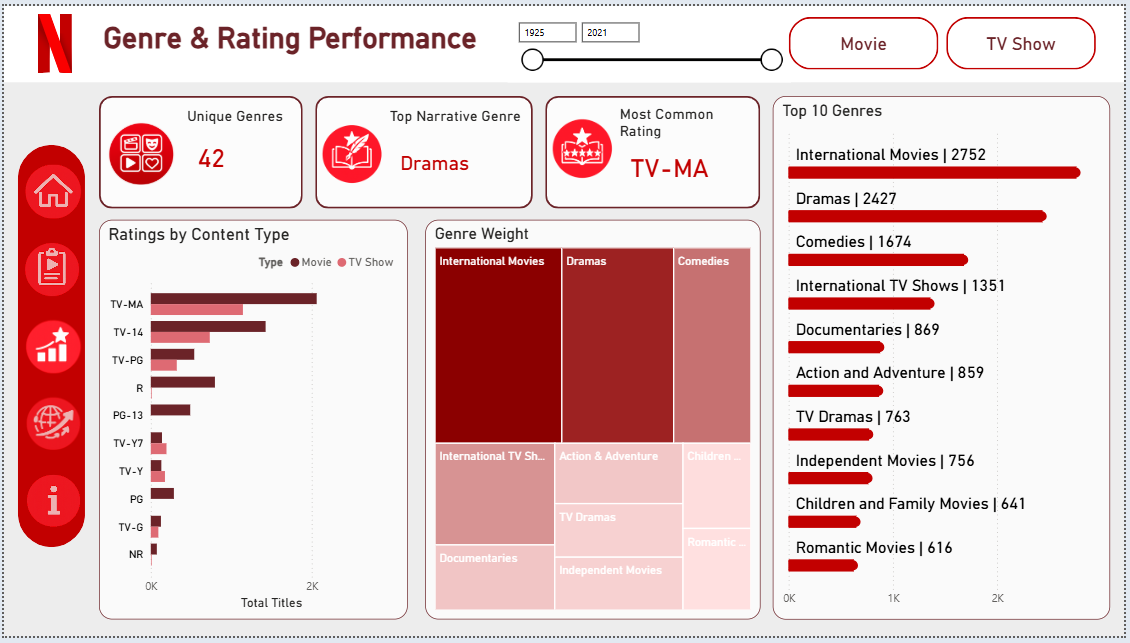

The dashboard page shown, as its layout file describes it:
{"tool":"powerbi","page":{"name":"Genre & Rating Performance","canvas":[1280,720],"ordinal":2},"visuals":[{"type":"shape","box":[0,0,1280,720],"z":0},{"type":"shape","box":[0,86.7,1280,633.3],"z":1000},{"type":"actionButton","box":[23.3,8.3,70,68.3],"z":2000},{"type":"textbox","box":[108.3,11.7,466.7,51.7],"z":3000},{"type":"clusteredBarChart","title":"Top 10 Genres","fields":{"Category":["Genre_table.Genre"],"Y":["Dashboard 2 measures.Label placeholder","Measures (2).Titles by Genre"]},"box":[878.6,102.9,385.7,598.6],"z":4000},{"type":"treemap","title":"Genre Weight","fields":{"Values":["Measures (2).Titles by Genre"],"Group":["Genre_table.Genre"]},"box":[481.4,244.3,382.9,457.1],"z":5000},{"type":"clusteredBarChart","title":"Ratings by Content Type","fields":{"Series":["netflix_titles.type"],"Y":["Measures (2).Total Titles"],"Category":["netflix_titles.rating"]},"box":[108.6,244.3,352.9,457.1],"z":6000},{"type":"shape","box":[108.6,102.9,232.9,128.6],"z":7000},{"type":"shape","box":[618.6,102.9,245.7,128.6],"z":8000},{"type":"shape","box":[355.7,102.9,248.6,128.6],"z":9000},{"type":"image","box":[118.6,130,75.7,77.1],"z":10000},{"type":"image","box":[622.9,128.6,75.7,68.6],"z":11000},{"type":"image","box":[360,134.3,75.7,68.6],"z":12000},{"type":"cardVisual","title":"Most Common Rating","fields":{"Data":["Dashboard 2 measures.Most Common Rating"]},"box":[698.6,112.9,152.9,102.9],"z":13000},{"type":"cardVisual","title":"Unique Genres","fields":{"Data":["Dashboard 2 measures.Unique Genres"]},"box":[204.3,115.7,125.7,94.3],"z":14000},{"type":"cardVisual","title":"Top Narrative Genre","fields":{"Data":["Dashboard 2 measures.Top Narrative Genre"]},"box":[435.7,115.7,168.6,105.7],"z":15000},{"type":"slicer","fields":{"Values":["netflix_titles.release_year"]},"box":[575.7,8.6,322.9,78.6],"z":16000},{"type":"shape","box":[15.7,158.6,77.1,460],"z":17000},{"type":"actionButton","box":[24.3,181.4,64.3,61.4],"z":18000},{"type":"actionButton","box":[22.9,269.6,64.3,61.4],"z":19000},{"type":"actionButton","box":[24.3,357.9,64.3,61.4],"z":20000},{"type":"actionButton","box":[24.3,446.1,64.3,61.4],"z":21000},{"type":"actionButton","box":[24.3,534.3,64.3,61.4],"z":22000},{"type":"advancedSlicerVisual","fields":{"Values":["netflix_titles.type"]},"box":[893.3,8.3,360,68.3],"z":23000}]}

Visuals, with their boxes in screenshot pixels (x1, y1, x2, y2), scaled from the page's 1280x720 canvas onto the 1130x643 screenshot:
shape: bbox=(0, 0, 1129, 642)
shape: bbox=(0, 77, 1129, 642)
actionButton: bbox=(21, 7, 82, 68)
textbox: bbox=(96, 10, 508, 57)
"Top 10 Genres" clusteredBarChart: bbox=(776, 92, 1116, 626)
"Genre Weight" treemap: bbox=(425, 218, 763, 626)
"Ratings by Content Type" clusteredBarChart: bbox=(96, 218, 407, 626)
shape: bbox=(96, 92, 301, 207)
shape: bbox=(546, 92, 763, 207)
shape: bbox=(314, 92, 533, 207)
image: bbox=(105, 116, 172, 185)
image: bbox=(550, 115, 617, 176)
image: bbox=(318, 120, 385, 181)
"Most Common Rating" cardVisual: bbox=(617, 101, 752, 193)
"Unique Genres" cardVisual: bbox=(180, 103, 291, 188)
"Top Narrative Genre" cardVisual: bbox=(385, 103, 533, 198)
slicer - netflix_titles.release_year: bbox=(508, 8, 793, 78)
shape: bbox=(14, 142, 82, 552)
actionButton: bbox=(21, 162, 78, 217)
actionButton: bbox=(20, 241, 77, 296)
actionButton: bbox=(21, 320, 78, 374)
actionButton: bbox=(21, 398, 78, 453)
actionButton: bbox=(21, 477, 78, 532)
advancedSlicerVisual - netflix_titles.type: bbox=(789, 7, 1106, 68)
